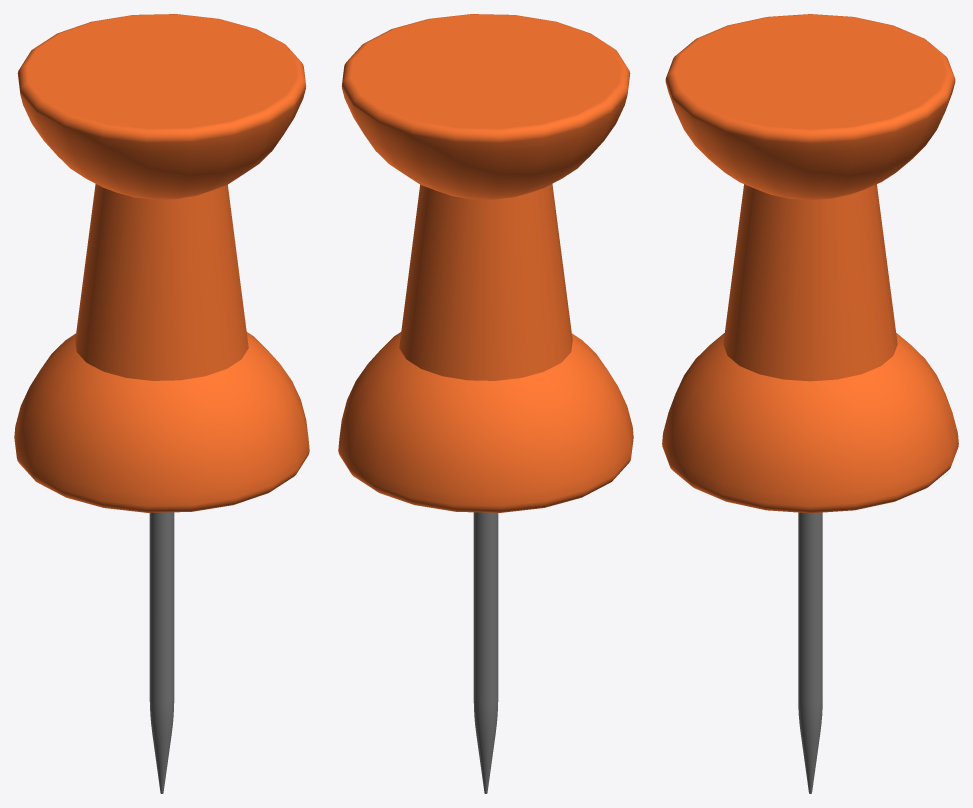
The picture shows the model from 3 angles, left to right: view 1: azimuth 30°, elevation 25°; view 2: azimuth 150°, elevation 25°; view 3: azimuth 270°, elevation 25°; orthographic projection.
Parts seen in each view (by area): view 1: polySurface2, polySurface1; view 2: polySurface2, polySurface1; view 3: polySurface2, polySurface1.
Boxes of the visible parts, x1,y1,x2,y2 form: polySurface2: [14, 14, 309, 512]; polySurface1: [149, 512, 174, 793]; polySurface2: [338, 14, 633, 512]; polySurface1: [473, 512, 498, 793]; polySurface2: [662, 14, 958, 513]; polySurface1: [798, 512, 822, 793].
Bounding box in the file's own units: 1.21 × 3.23 × 1.21.
